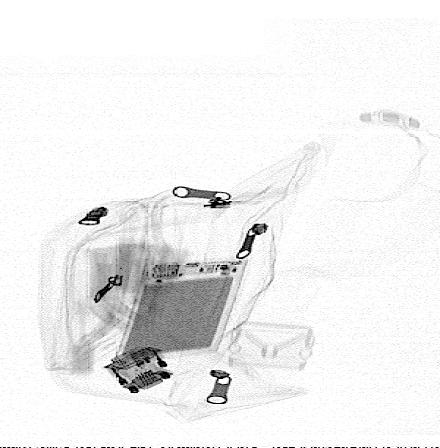Powerbank: (118, 256, 247, 360)
